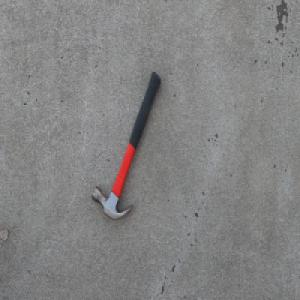Hammer: (91, 70, 161, 220)
